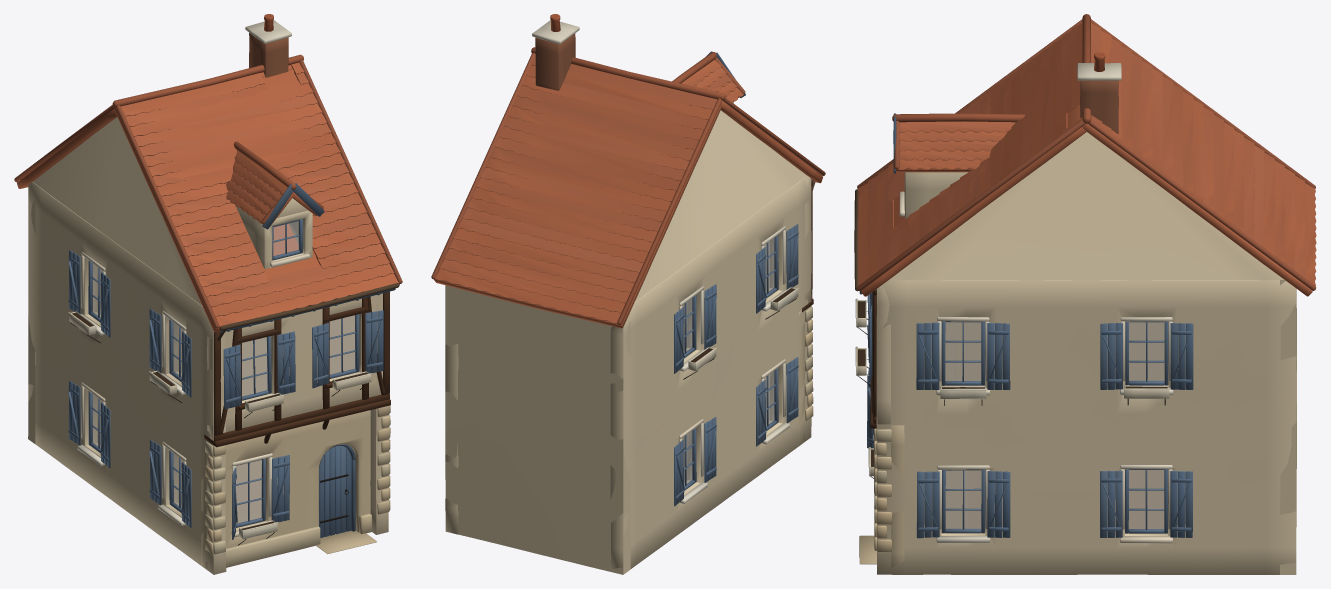
Rendered from GateStreet_BehindOuter2.glb.
3 renders of one model, left to right at view 1: azimuth 30°, elevation 25°; view 2: azimuth 150°, elevation 25°; view 3: azimuth 270°, elevation 25°, orthographic. The views are drawn at different scales.
Parts seen in each view (by area): view 1: Sammel Putz, Sammel Stein, Sammel Lack, Sammel Quader, Sammel Holz, Glas, Sammel Putz innen, Sammel Metall, Sammel Ziegel; view 2: Sammel Putz, Sammel Stein, Sammel Lack, Sammel Ziegel, Glas, Sammel Putz innen, Sammel Quader; view 3: Sammel Putz, Sammel Stein, Sammel Lack, Sammel Putz innen, Glas, Sammel Ziegel, Sammel Quader, Sammel Holz.
Part boxes in pixels (<box>): Sammel Putz: <box>28,14,388,574</box>; Sammel Stein: <box>14,54,402,567</box>; Sammel Lack: <box>68,183,395,539</box>; Sammel Quader: <box>201,410,370,568</box>; Sammel Holz: <box>204,291,390,447</box>; Glas: <box>92,221,354,523</box>; Sammel Putz innen: <box>97,267,354,523</box>; Sammel Metall: <box>70,283,399,545</box>; Sammel Ziegel: <box>249,33,288,77</box>; Sammel Putz: <box>445,14,811,574</box>; Sammel Stein: <box>431,47,825,420</box>; Sammel Lack: <box>674,51,813,506</box>; Sammel Ziegel: <box>535,33,575,90</box>; Glas: <box>682,238,774,485</box>; Sammel Putz innen: <box>682,241,769,482</box>; Sammel Quader: <box>799,311,805,444</box>; Sammel Putz: <box>857,52,1296,574</box>; Sammel Stein: <box>857,14,1316,564</box>; Sammel Lack: <box>855,113,1193,538</box>; Sammel Putz innen: <box>945,322,1164,528</box>; Glas: <box>945,322,1164,528</box>; Sammel Ziegel: <box>1080,80,1118,133</box>; Sammel Quader: <box>891,425,904,567</box>; Sammel Holz: <box>870,289,876,428</box>.
Bounding box in the file's own units: 5.34 × 11.04 × 9.09.
